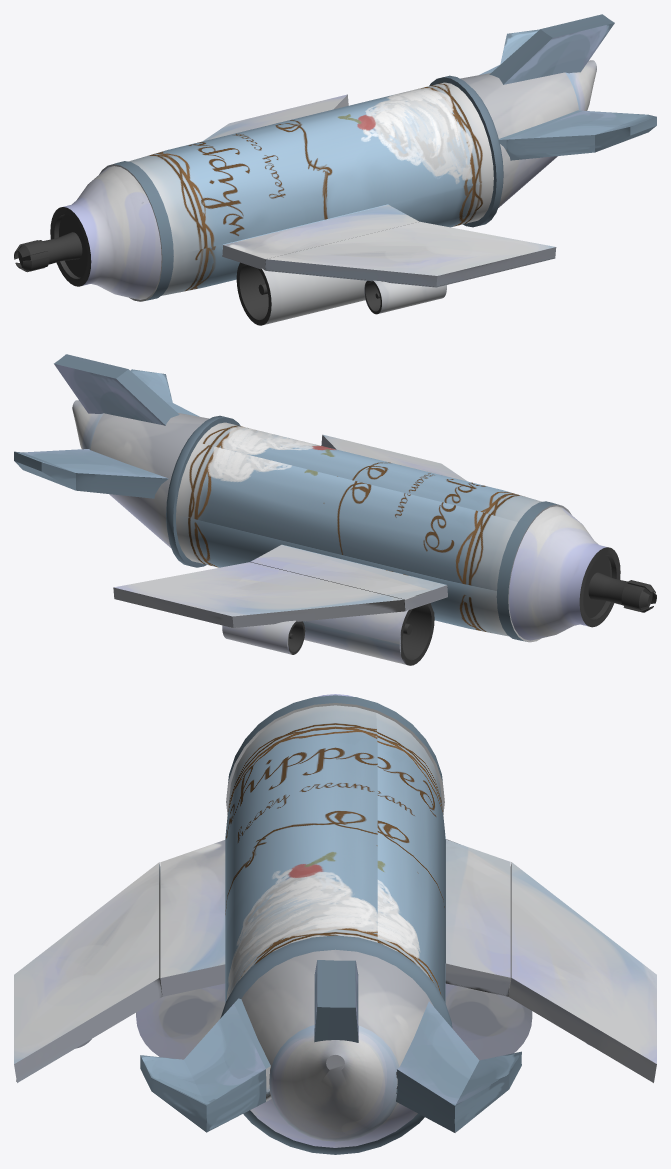
The model's file is slagroom spuitbus.fbx.
The picture shows the model from 3 angles, top to bottom: view 1: azimuth 30°, elevation 25°; view 2: azimuth 150°, elevation 25°; view 3: azimuth 270°, elevation 25°; orthographic projection. The views are drawn at different scales.
Visible parts, largest first — view 1: Cylinder, Cylinder.001, Cylinder.002; view 2: Cylinder, Cylinder.001, Cylinder.002; view 3: Cylinder, Cylinder.001, Cylinder.002.
Boxes of the visible parts, <box> form: Cylinder: <box>14,14,656,325</box>; Cylinder.001: <box>128,82,493,295</box>; Cylinder.002: <box>109,75,503,300</box>; Cylinder: <box>14,354,656,665</box>; Cylinder.001: <box>176,422,542,636</box>; Cylinder.002: <box>166,415,558,641</box>; Cylinder: <box>14,694,656,1147</box>; Cylinder.001: <box>225,705,445,1002</box>; Cylinder.002: <box>220,695,452,1154</box>.
Bounding box in the file's own units: 954 × 266 × 583.
